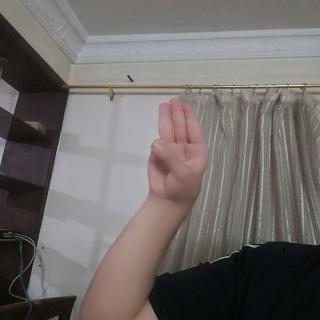THA: (143, 92, 214, 206)
